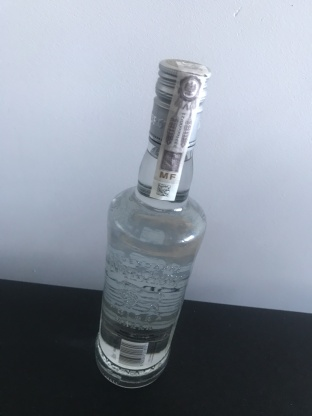nakretka: (146, 53, 213, 156)
